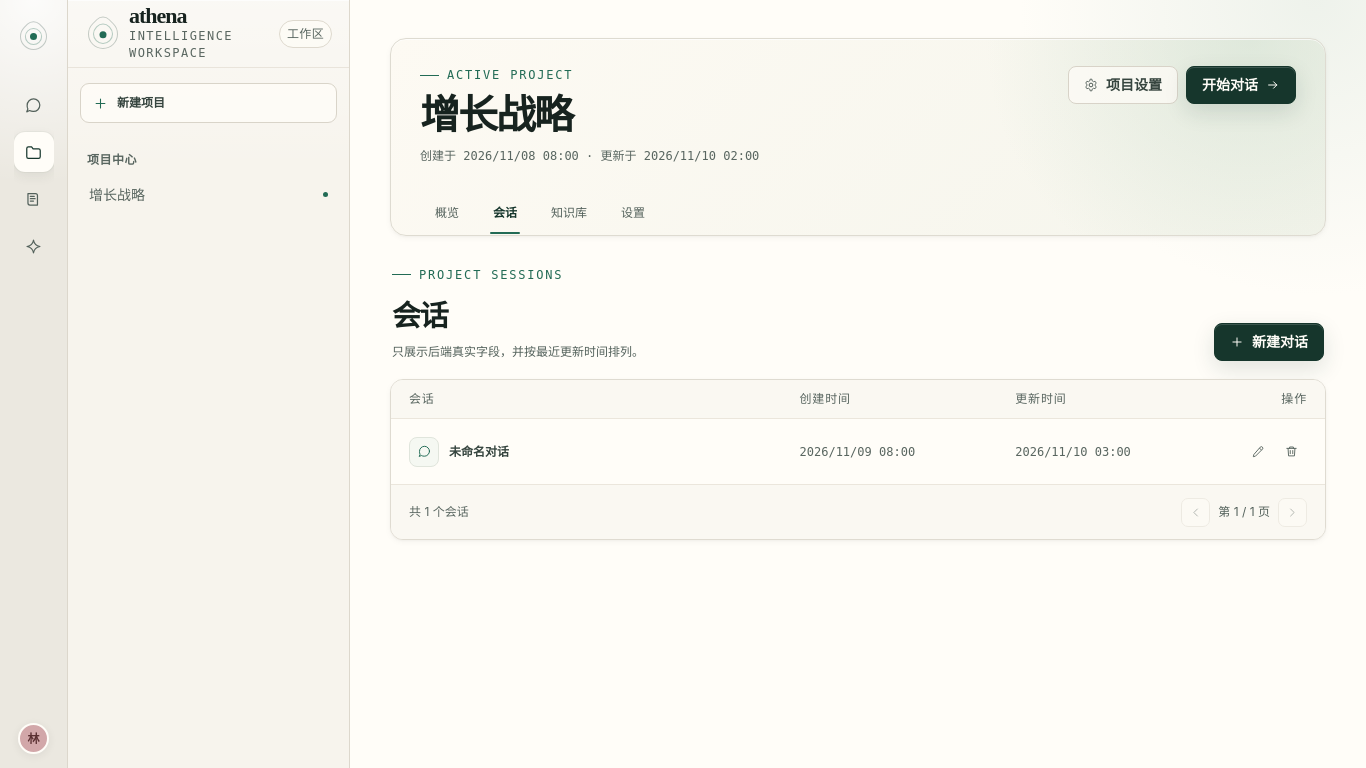
Test: 项目会话管理 › 空标题显示未命名对话，重命名成功后刷新列表
The width and height of the screenshot is (1366, 768).
Expected: the text "未命名对话" is shown, x1=449 y1=443 x2=509 y2=461
Click the button named "重命名会话：未命名对话" at (1258, 452), box x1=1243 y1=436 x2=1274 y2=467
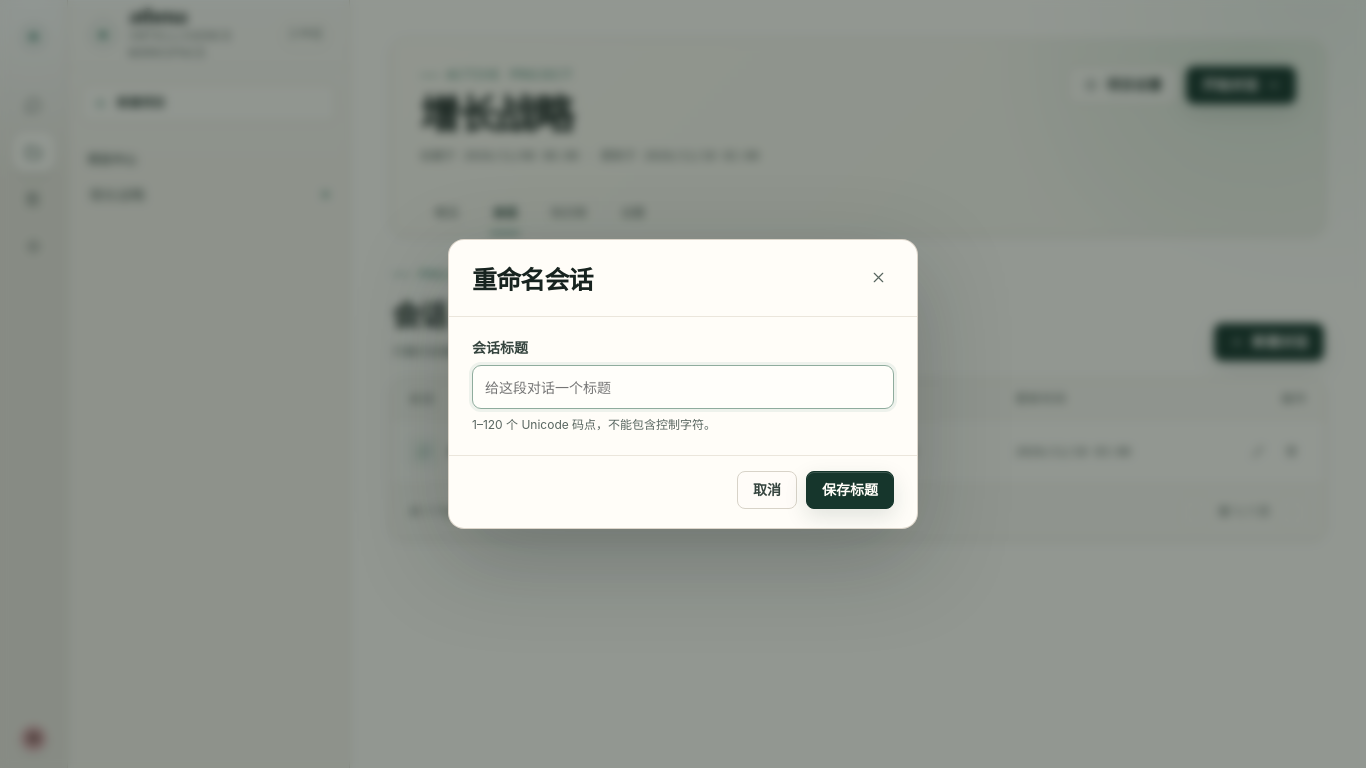
Expected: the field labelled "会话标题" is empty
Type "新的会话标题" into the field labelled "会话标题" at (683, 388), box x1=472 y1=366 x2=894 y2=410
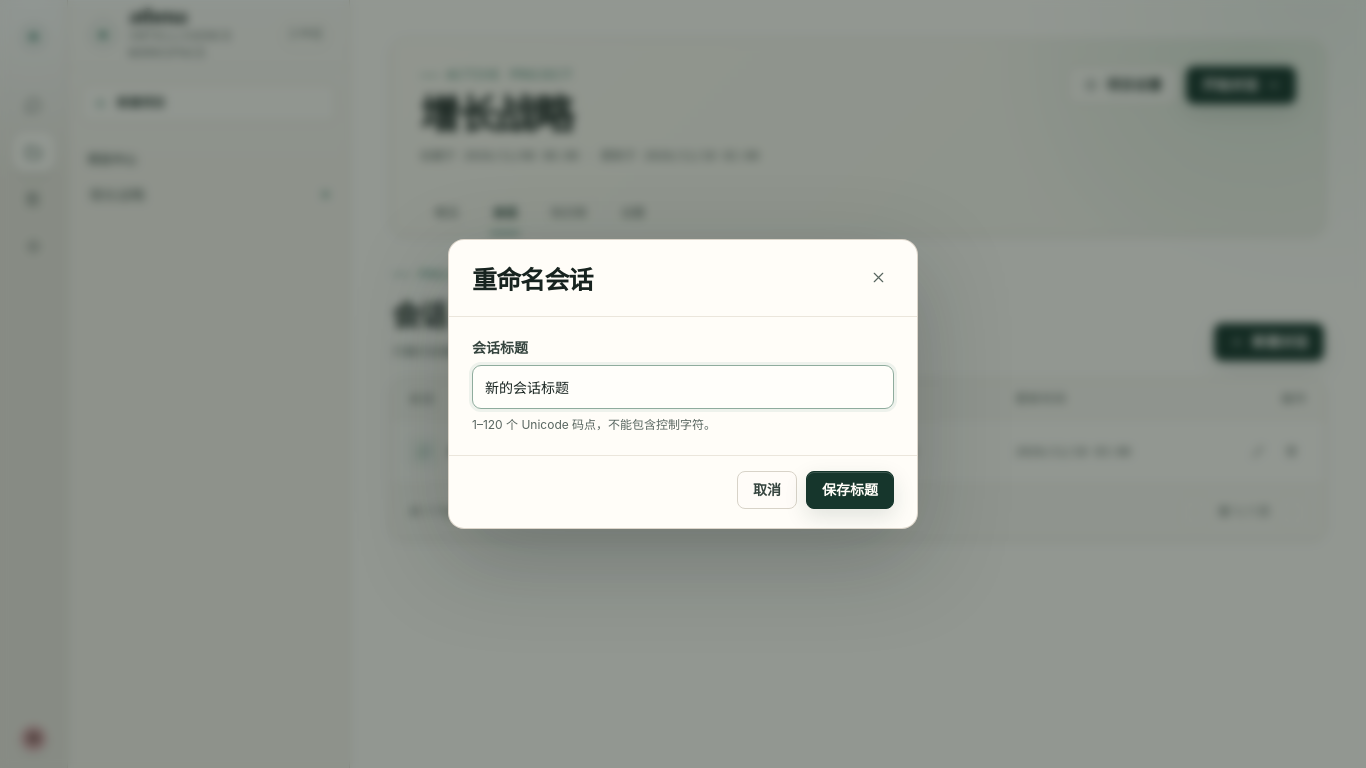
Click the button "保存标题" at (850, 490), box x1=806 y1=471 x2=894 y2=509
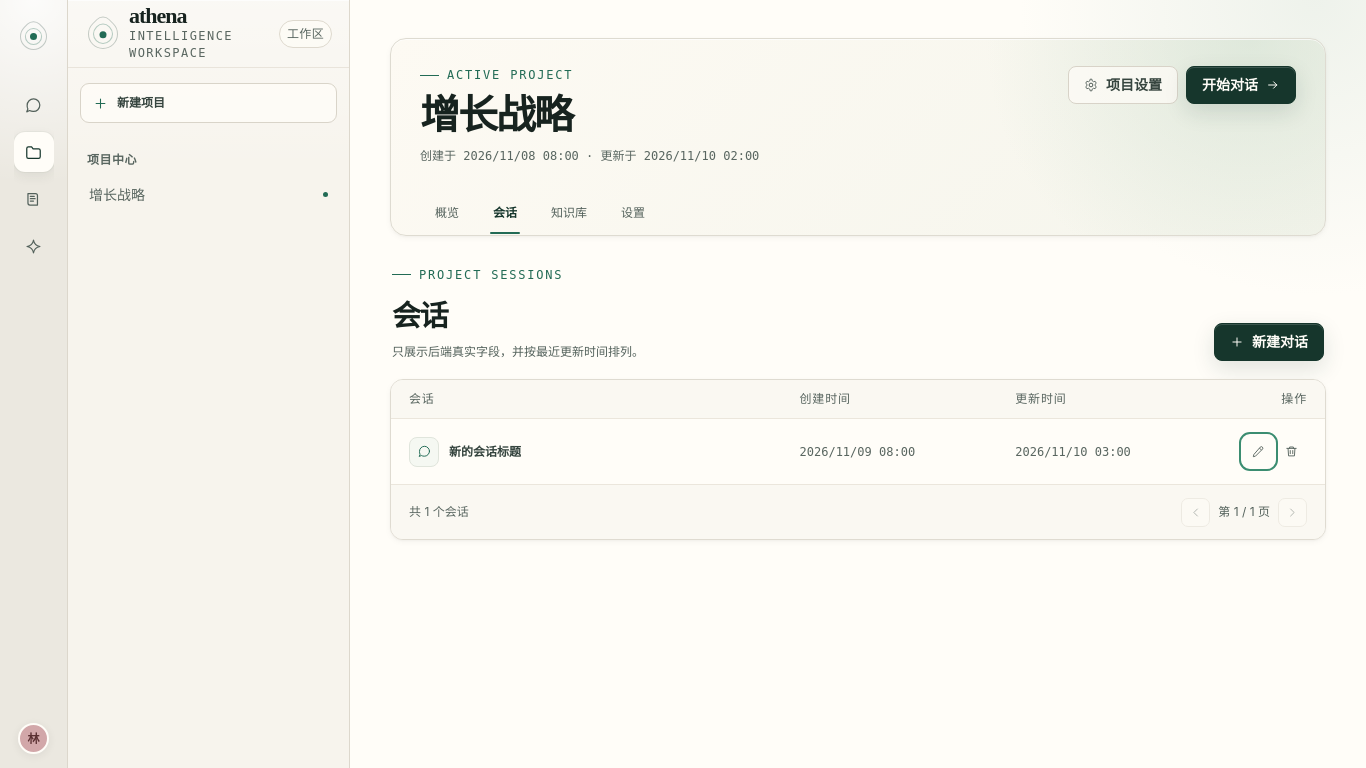
Expected: the text "新的会话标题" is shown, x1=449 y1=443 x2=521 y2=461
Expected: the heading "重命名会话" is gone
